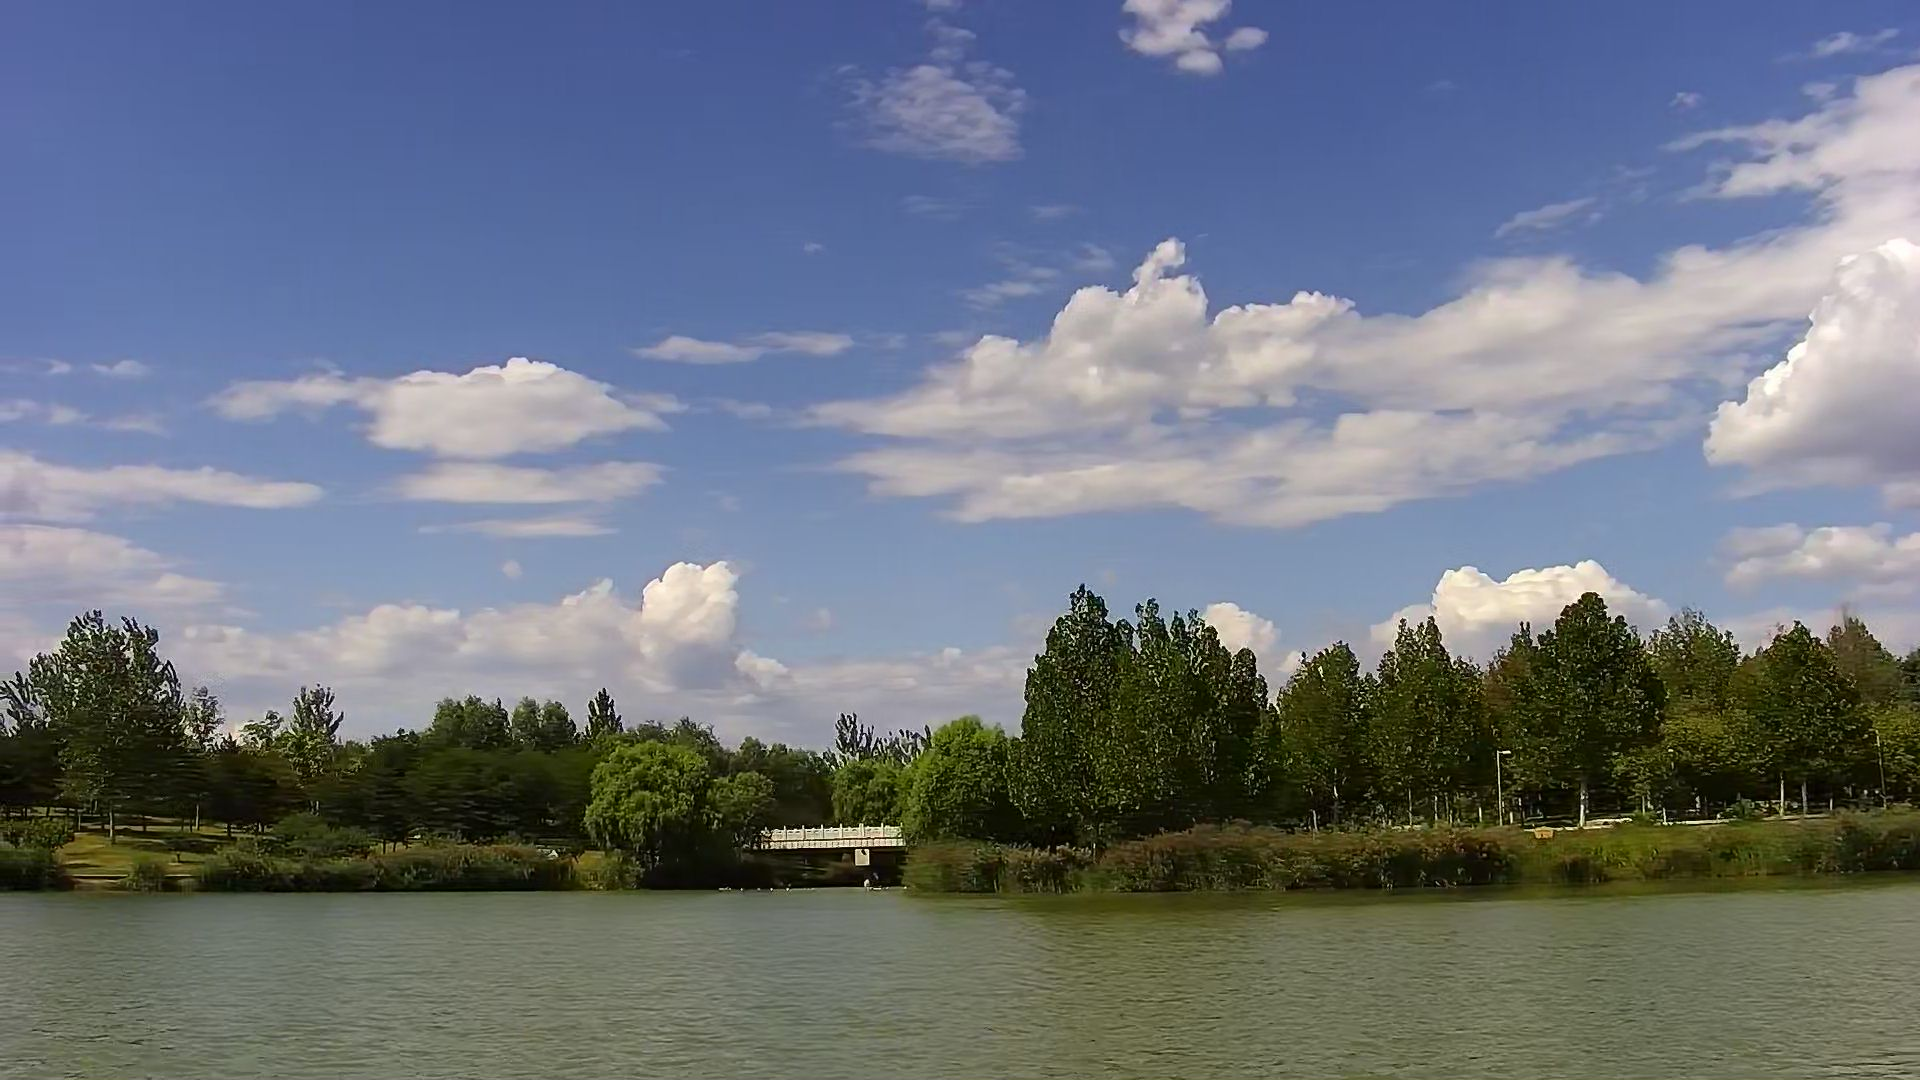bridge: (769, 820, 901, 887)
